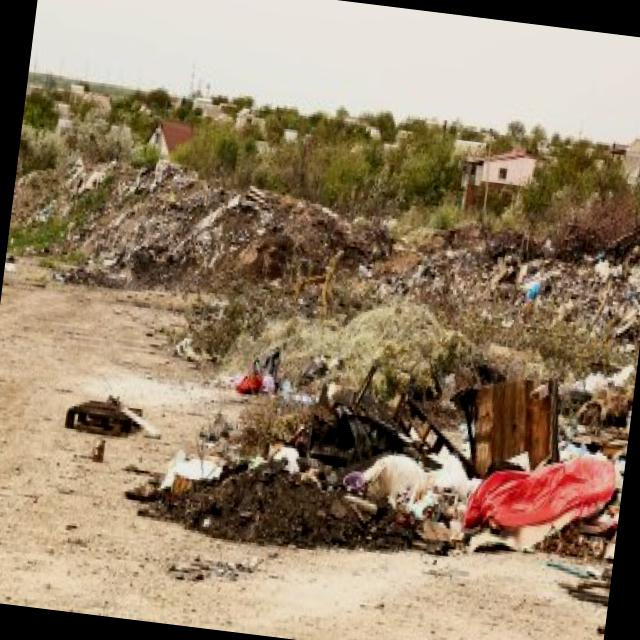garbage: (47, 178, 640, 595)
